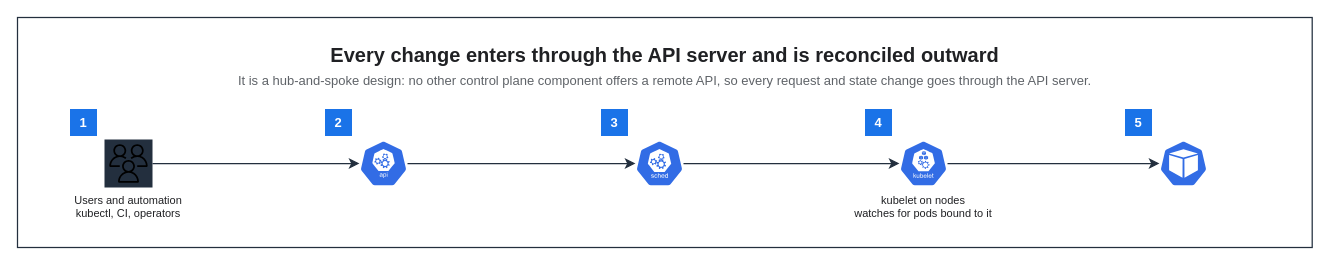
The diagram is 1330 pixels wide and 266 high, and some of its shapes have lost their labels. Each missing label, with the centre of its shape:
"API server and etcd the only writer to cluster state" goes at (383,163).
"Container runtime and Pods where containers actually start" goes at (1183,163).
"Controllers and scheduler reconcile desired against actual" goes at (659,163).
